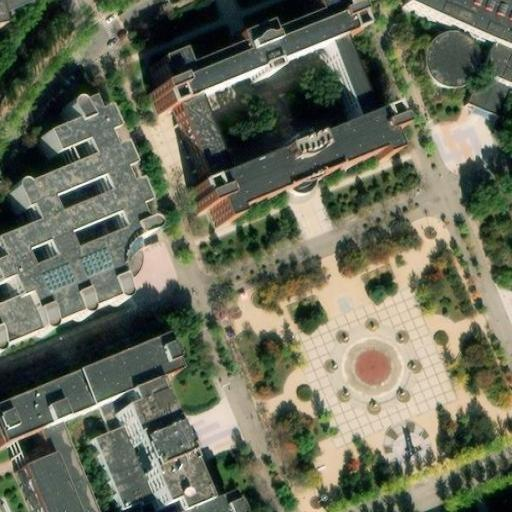building: (0, 104, 148, 347), (184, 108, 393, 221), (148, 25, 353, 127), (0, 356, 169, 447), (108, 399, 193, 512), (3, 428, 91, 512), (396, 0, 512, 58), (88, 430, 147, 512), (161, 116, 207, 184), (322, 51, 365, 121), (424, 40, 473, 89), (465, 73, 511, 121), (479, 49, 512, 87), (143, 69, 176, 103), (222, 44, 261, 72), (302, 2, 332, 37), (0, 0, 26, 32)
